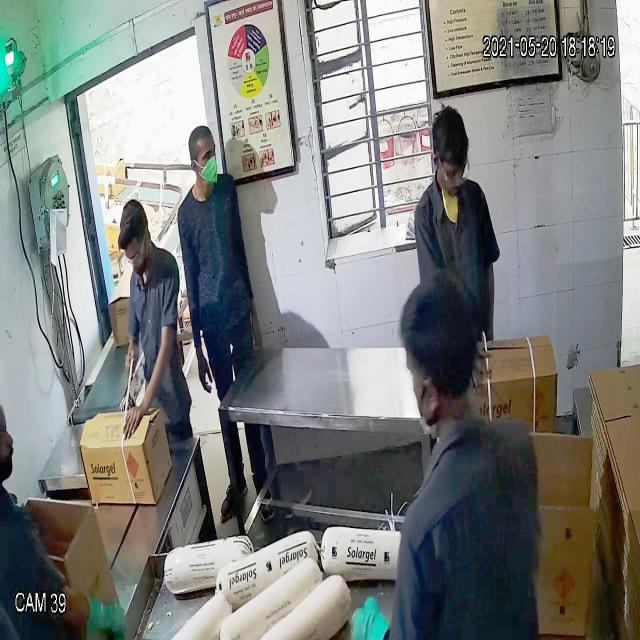glasses: (432, 152, 472, 190), (121, 241, 151, 268)
no-glass: (184, 144, 220, 171)
